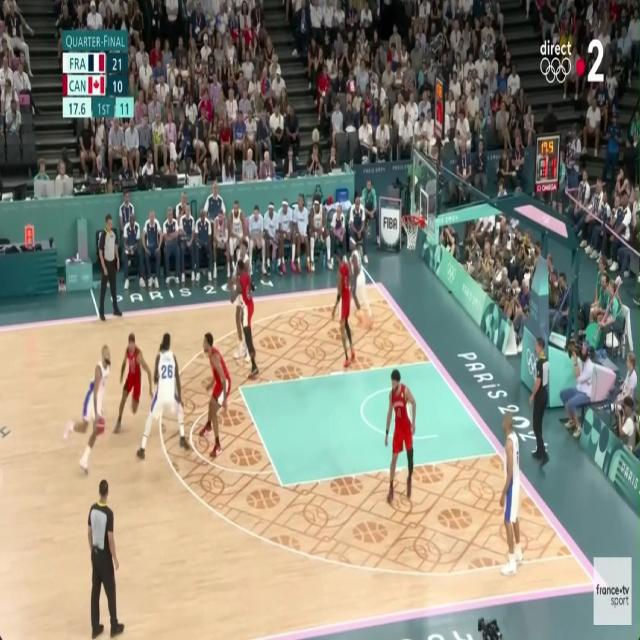ball_handler: (78, 344, 111, 473)
